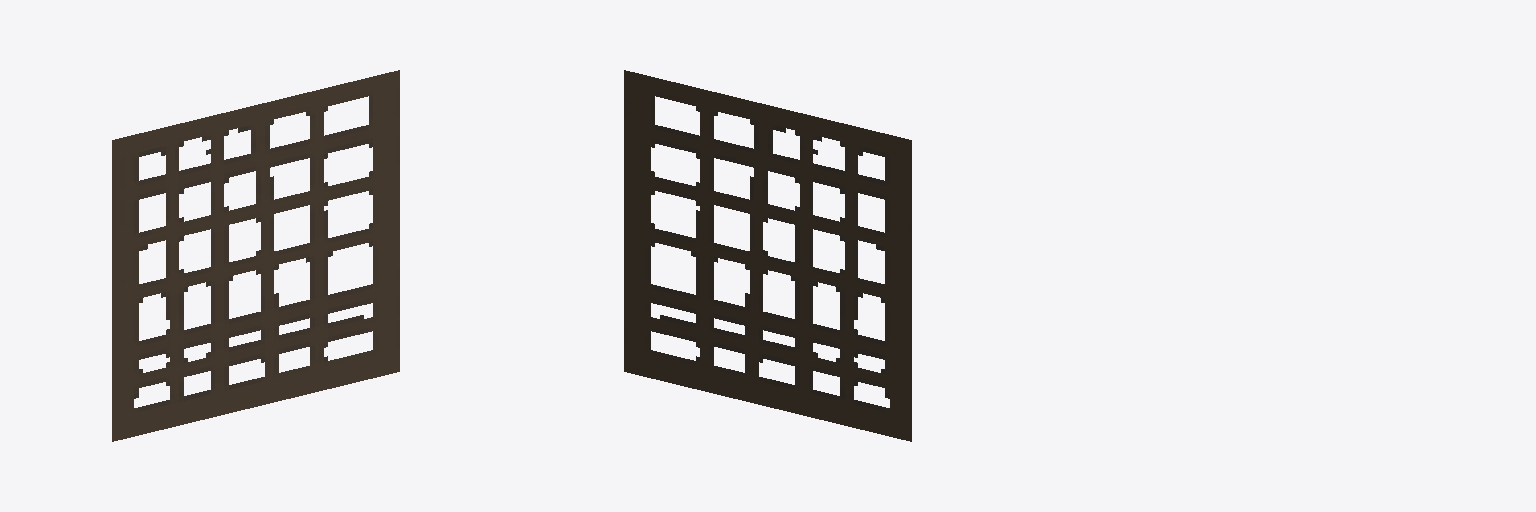
3 renders of one model, left to right at view 1: azimuth 30°, elevation 25°; view 2: azimuth 150°, elevation 25°; view 3: azimuth 270°, elevation 25°, orthographic.
Parts seen in each view (by area): view 1: Plane; view 2: Plane; view 3: none.
Part boxes in pixels (x1,y1,x2,y2): Plane: (112, 70, 399, 441); Plane: (624, 70, 911, 441).
Bounding box in the file's own units: 1 × 1 × 0.
Materials: 1 (1 with a texture image).